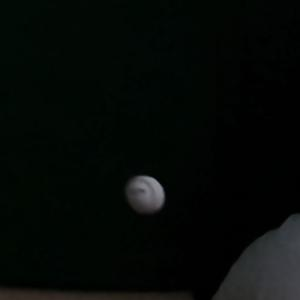ball: (124, 174, 169, 219)
